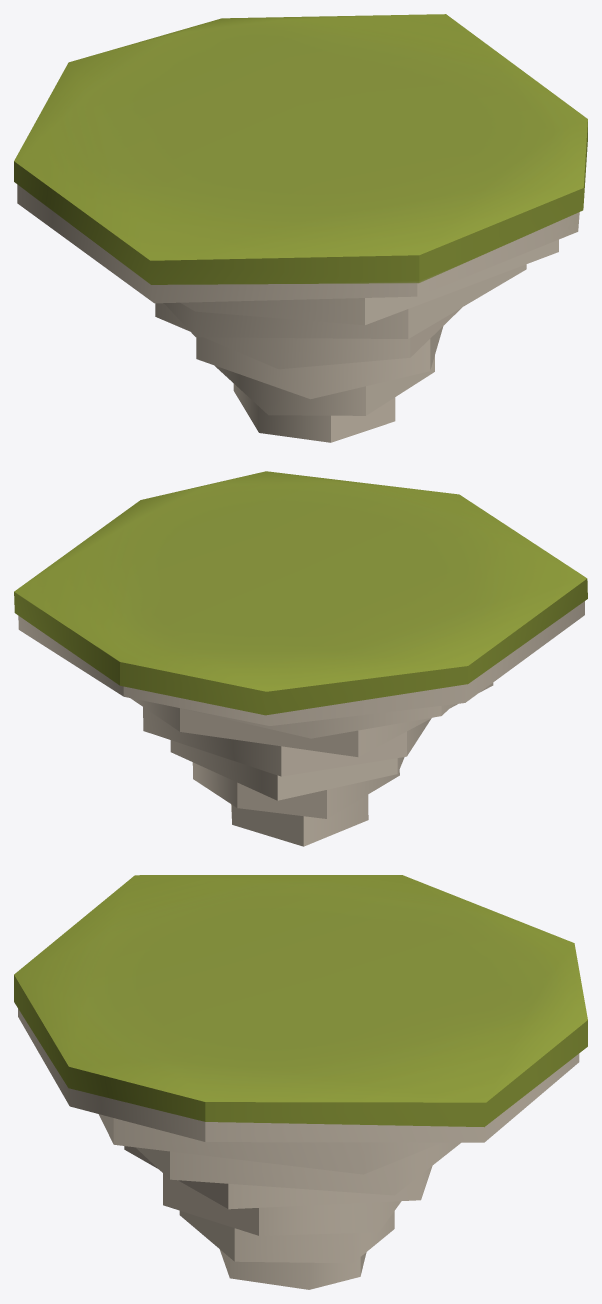
The model's file is floor5.fbx.
3 renders of one model, top to bottom at view 1: azimuth 30°, elevation 25°; view 2: azimuth 150°, elevation 25°; view 3: azimuth 270°, elevation 25°, orthographic. The views are drawn at different scales.
Visible parts, largest first — view 1: pasted__pCube9; view 2: pasted__pCube9; view 3: pasted__pCube9.
Part boxes in pixels (<box>): pasted__pCube9: <box>14,14,587,442</box>; pasted__pCube9: <box>14,471,587,846</box>; pasted__pCube9: <box>14,875,587,1289</box>.
Bounding box in the file's own units: 5.31 × 3.02 × 5.66.
Materials: 1 (1 with a texture image).
